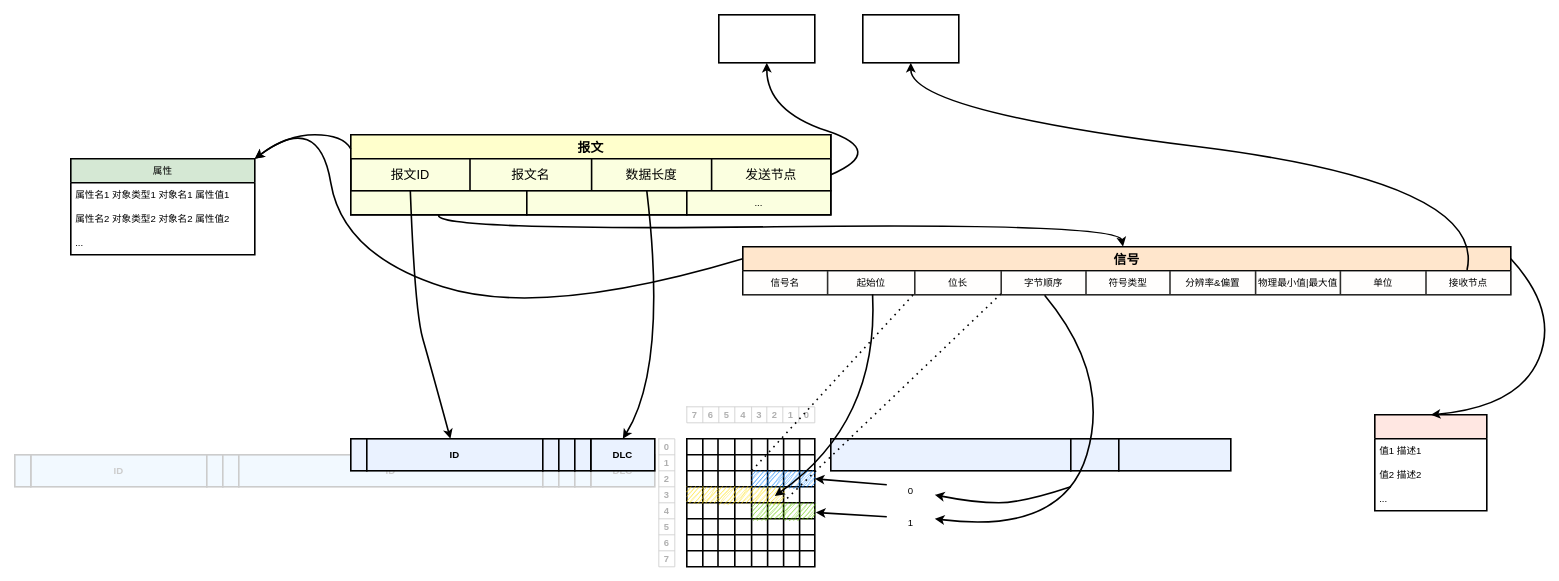
Some shapes in this 1559 by 581 pixel diagram are drawn without their labels. The box of each missing label's shape, as (x1, y1, x2, y2) in pixels:
BU_ 1: (718, 14, 815, 63)
BU_ 2: (862, 14, 959, 63)
信号1: (350, 190, 527, 215)
信号2: (526, 190, 687, 215)
值描述: (1374, 414, 1487, 511)
